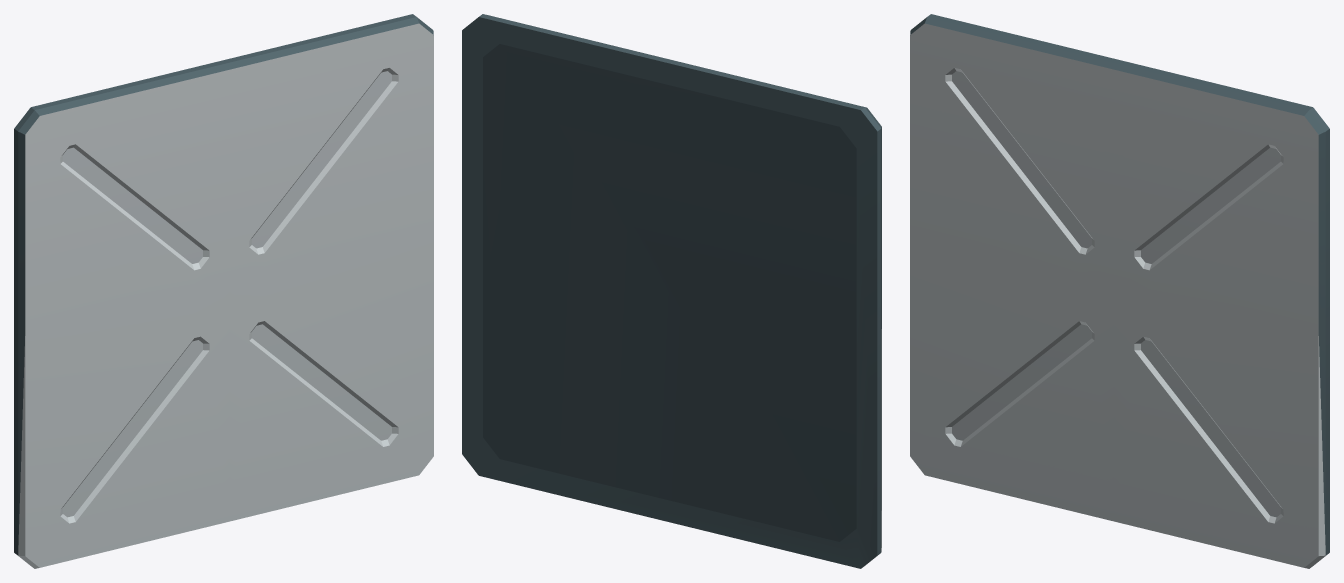
The model's file is Container_type_B_door_010.fbx.
The picture shows the model from 3 angles, left to right: view 1: azimuth 30°, elevation 25°; view 2: azimuth 150°, elevation 25°; view 3: azimuth 330°, elevation 25°; orthographic projection.
Parts seen in each view (by area): view 1: Container_type_B_door_010; view 2: Container_type_B_door_010; view 3: Container_type_B_door_010.
Part boxes in pixels (<box>): Container_type_B_door_010: <box>14,14,433,568</box>; Container_type_B_door_010: <box>462,14,881,568</box>; Container_type_B_door_010: <box>910,14,1329,568</box>.
Size of the model in its own units: 180 by 5.79 by 190.
